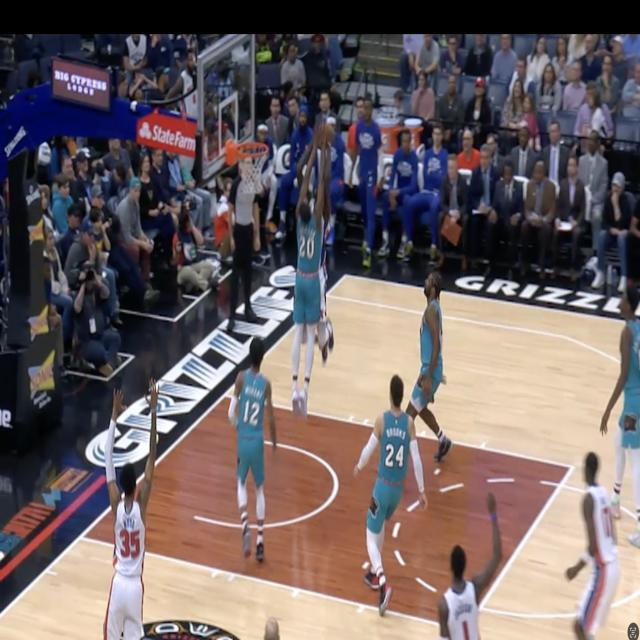foul: (284, 111, 341, 424)
